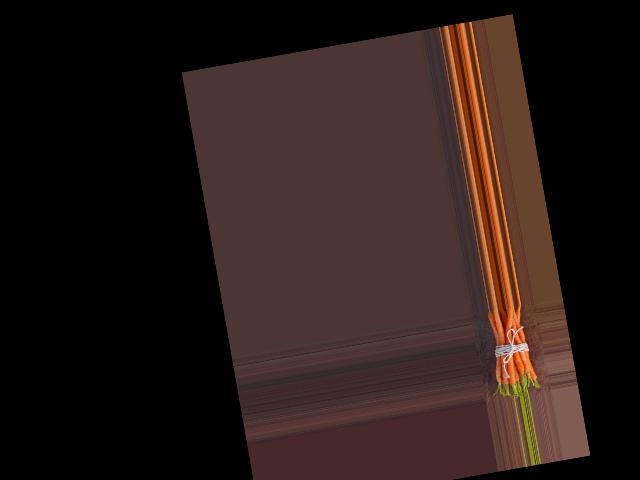carrot: (482, 311, 506, 390)
